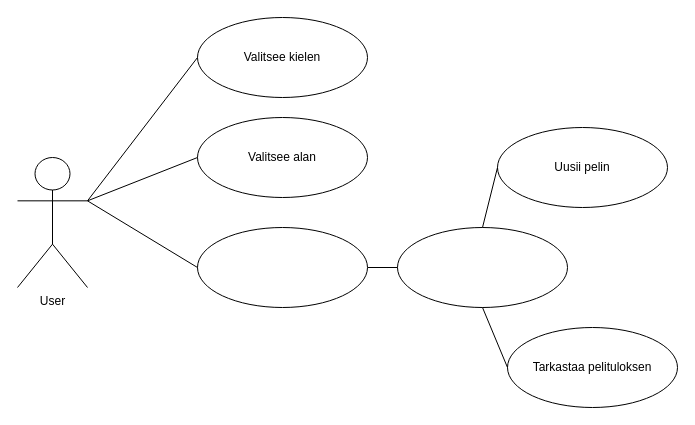
The diagram is 695 pixels wide and 425 high, and some of its shapes have lost their labels. Each missing label, with the box of its shape:
Aloittaa pelin: (196, 226, 368, 308)
Raahaa roskia roskikseen: (396, 226, 568, 308)
